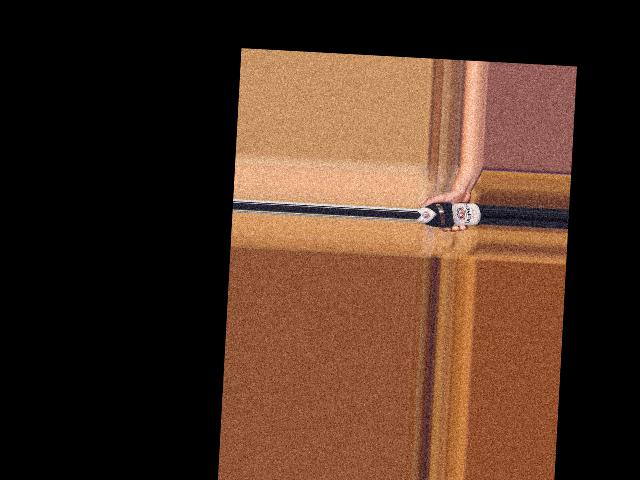beer: (417, 199, 482, 229)
